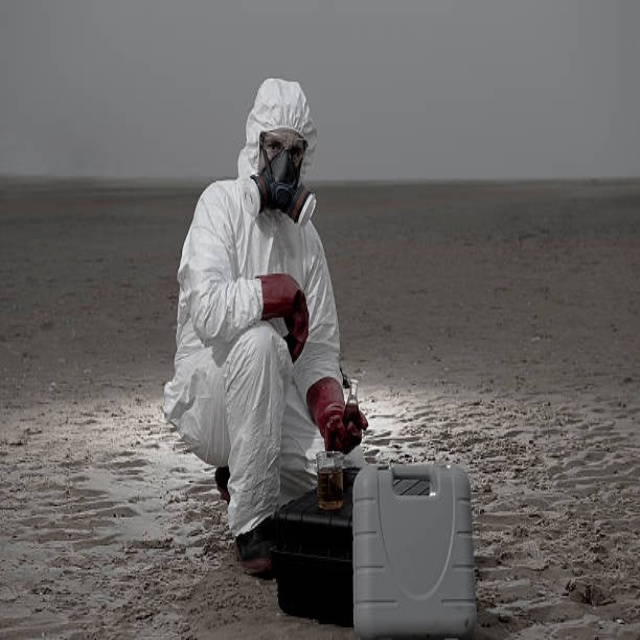Gafas: (259, 129, 308, 170)
Guantes: (250, 264, 312, 363), (303, 368, 367, 459)
Mascara: (241, 148, 321, 222)
